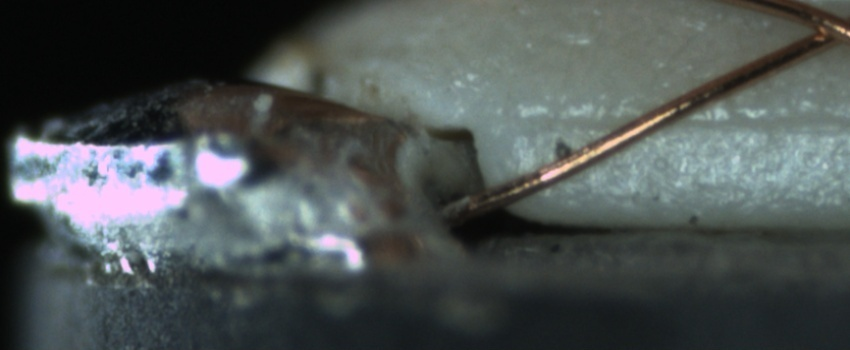CL: (790, 4, 848, 55)
DL: (518, 86, 849, 152)
